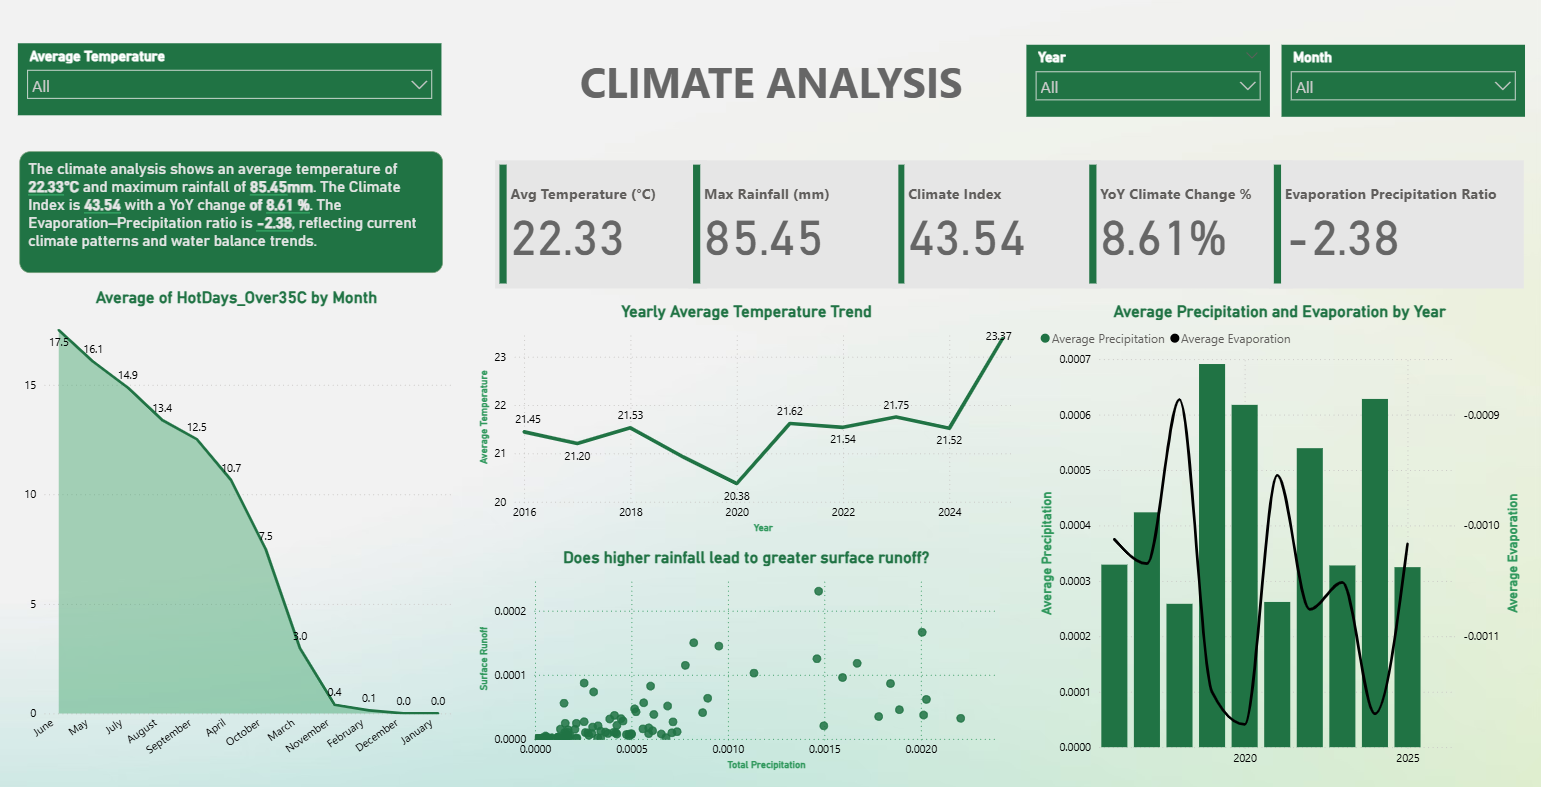

This screenshot's page, from the dashboard's own definition file:
{"tool":"powerbi","page":{"name":"CLIMATE ANALYSIS ","canvas":[1720,880],"ordinal":3},"visuals":[{"type":"shape","box":[583.3,23.3,553.3,133.3],"z":0},{"type":"slicer","fields":{"Values":["Fact_Climate.AvgTemp_C"]},"box":[22.5,47.5,470,80],"z":1000},{"type":"slicer","fields":{"Values":["Fact_Climate.Month "]},"box":[1426.7,50,270,80],"z":2000},{"type":"cardVisual","fields":{"Data":["Dim_Date.Avg Temperature (°C)"]},"box":[552.5,177.5,235,142.5],"z":3000},{"type":"cardVisual","fields":{"Data":["Dim_Date.QIM Stability Score"]},"box":[995,177.5,230,142.5],"z":4000},{"type":"cardVisual","fields":{"Data":["Dim_Date.Max Rainfall (mm)"]},"box":[767.5,177.5,232.5,142.5],"z":5000},{"type":"scatterChart","title":"Does higher rainfall lead to greater surface runoff?","fields":{"X":["Sum(Fact_Climate.Total_Precipitation_m)"],"Y":["Fact_Climate.Surface_Runoff_m"]},"box":[530,607.5,605,252.5],"z":6000},{"type":"lineChart","fields":{"Category":["Fact_Climate.Month "],"Y":["Avg(Fact_Climate.HotDays_Over35C)"]},"box":[22.3,320,488.7,540.8],"z":7000},{"type":"cardVisual","fields":{"Data":["Dim_Date.YoY Climate Change %"]},"box":[1207.5,177.5,230,142.5],"z":8000},{"type":"cardVisual","fields":{"Data":["Dim_Date.Evaporation Precipitation Ratio"]},"box":[1412.5,177.5,282.5,142.5],"z":9000},{"type":"lineStackedColumnComboChart","title":"Average Precipitation and Evaporation by Year","fields":{"Category":["Dim_Date.Year"],"Y":["Avg(Fact_Climate.Total_Precipitation_m)"],"Y2":["Avg(Fact_Climate.Evaporation_m)"]},"box":[1152.5,335,542.5,525],"z":10000},{"type":"lineChart","title":"Yearly Average Temperature Trend","fields":{"Category":["Dim_Date.Year"],"Y":["Avg(Fact_Climate.AvgTemp_C)"]},"box":[530,335,605,262.5],"z":11000},{"type":"slicer","fields":{"Values":["Dim_Date.Year"]},"box":[1142.5,50,270,80],"z":12000},{"type":"textbox","box":[25,169,470,135],"z":13000}]}

Visuals, with their boxes in screenshot pixels (x1, y1, x2, y2), scaled from the page's 1720x880 canvas onto the 1541x787 screenshot:
shape: crop(523, 21, 1018, 140)
slicer - Fact_Climate.AvgTemp_C: crop(20, 42, 441, 114)
slicer - Fact_Climate.Month : crop(1278, 45, 1520, 116)
cardVisual - Dim_Date.Avg Temperature (°C): crop(495, 159, 706, 286)
cardVisual - Dim_Date.QIM Stability Score: crop(891, 159, 1098, 286)
cardVisual - Dim_Date.Max Rainfall (mm): crop(688, 159, 896, 286)
"Does higher rainfall lead to greater surface runoff?" scatterChart: crop(475, 543, 1017, 769)
lineChart - Fact_Climate.Month  x Avg(Fact_Climate.HotDays_Over35C): crop(20, 286, 458, 770)
cardVisual - Dim_Date.YoY Climate Change %: crop(1082, 159, 1288, 286)
cardVisual - Dim_Date.Evaporation Precipitation Ratio: crop(1266, 159, 1519, 286)
"Average Precipitation and Evaporation by Year" lineStackedColumnComboChart: crop(1033, 300, 1519, 769)
"Yearly Average Temperature Trend" lineChart: crop(475, 300, 1017, 534)
slicer - Dim_Date.Year: crop(1024, 45, 1266, 116)
textbox: crop(22, 151, 443, 272)
